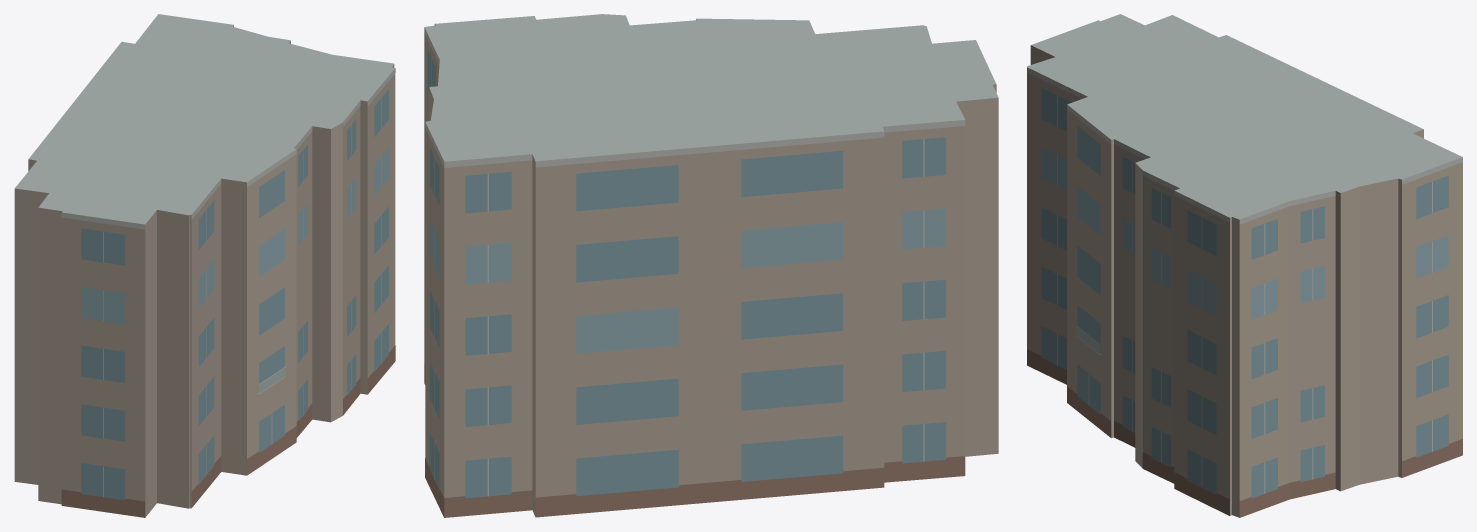
Rendered from survey-upis-32666661.glb.
3 renders of one model, left to right at view 1: azimuth 30°, elevation 25°; view 2: azimuth 150°, elevation 25°; view 3: azimuth 270°, elevation 25°, orthographic. The views are drawn at different scales.
Parts seen in each view (by area): view 1: survey-upis-32666661.tmp; view 2: survey-upis-32666661.tmp; view 3: survey-upis-32666661.tmp.
Part boxes in pixels (box(x1,y1,x2,y2)): survey-upis-32666661.tmp: box(14, 14, 395, 517); survey-upis-32666661.tmp: box(424, 14, 998, 517); survey-upis-32666661.tmp: box(1027, 14, 1462, 517).
Size of the model in its own units: 20.97 by 14.18 by 18.78.
